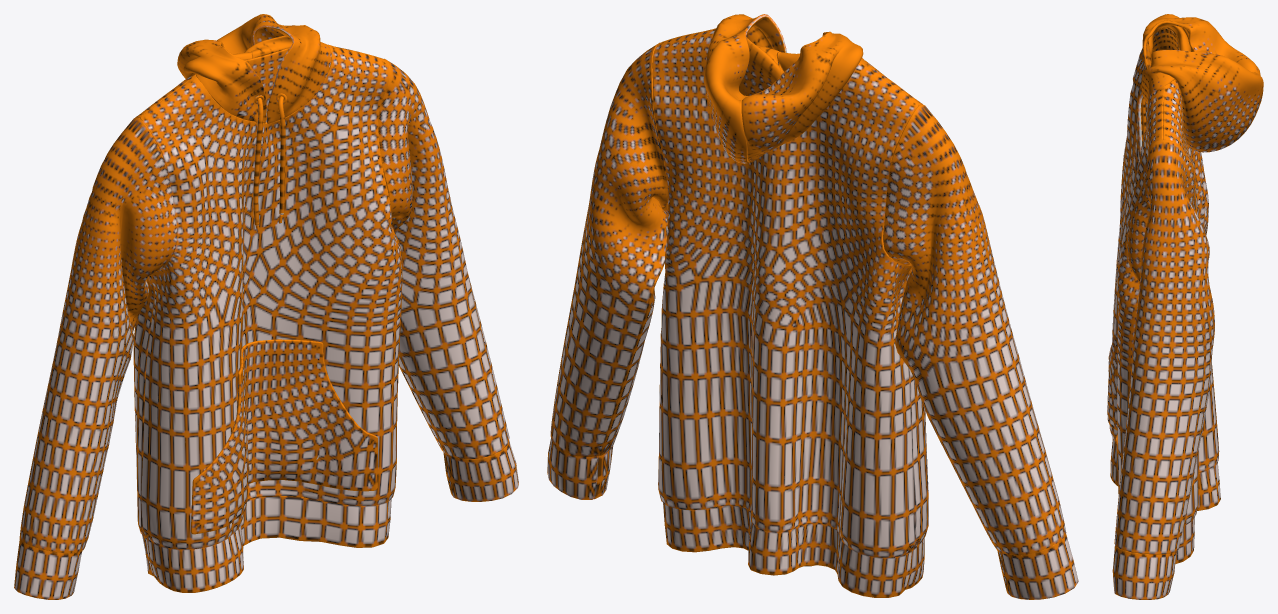
The model's file is coolhoodie.glb.
The picture shows the model from 3 angles, left to right: view 1: azimuth 30°, elevation 25°; view 2: azimuth 150°, elevation 25°; view 3: azimuth 270°, elevation 25°; orthographic projection. The views are drawn at different scales.
Parts seen in each view (by area): view 1: back_mesh; view 2: back_mesh; view 3: back_mesh.
Boxes of the visible parts, x1,y1,x2,y2 form: back_mesh: (14, 14, 518, 599); back_mesh: (547, 14, 1078, 599); back_mesh: (1107, 14, 1263, 599).
Bounding box in the file's own units: 0.6731 × 0.6652 × 0.197.
Materials: 1 (1 with a texture image).
